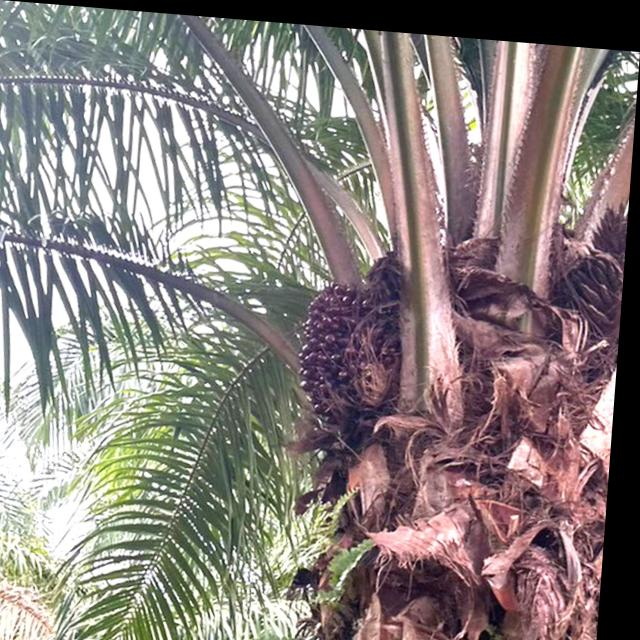ripe: (296, 268, 402, 410)
